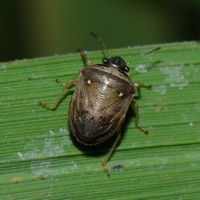insect: (39, 33, 159, 175)
